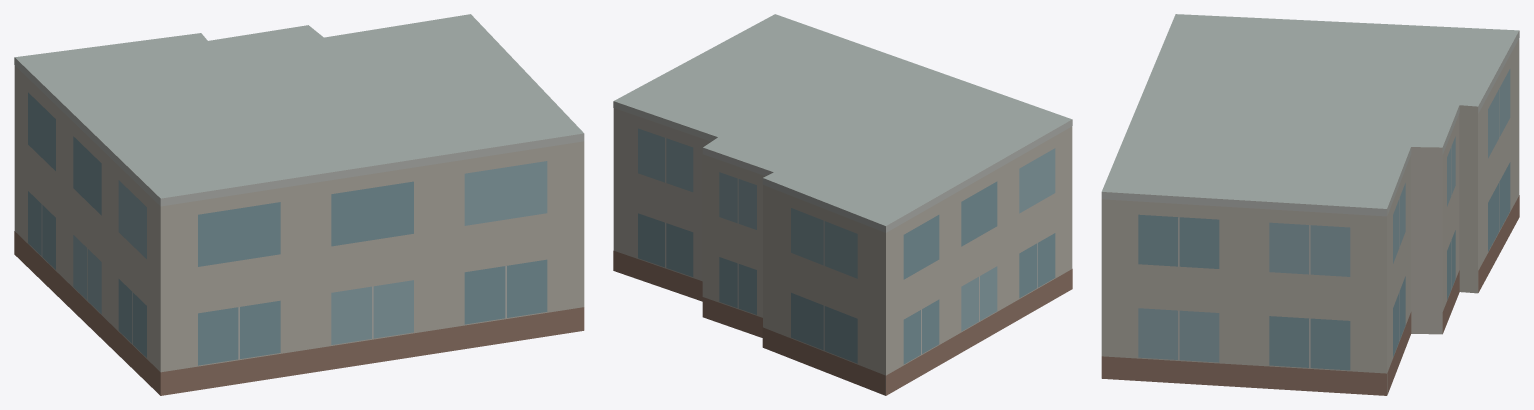
Rendered from survey-upis-32802115.glb.
The picture shows the model from 3 angles, left to right: view 1: azimuth 30°, elevation 25°; view 2: azimuth 150°, elevation 25°; view 3: azimuth 270°, elevation 25°; orthographic projection. The views are drawn at different scales.
Parts seen in each view (by area): view 1: survey-upis-32802115.tmp; view 2: survey-upis-32802115.tmp; view 3: survey-upis-32802115.tmp.
Boxes of the visible parts, x1=… form: survey-upis-32802115.tmp: x1=14, y1=14, x2=584, y2=395; survey-upis-32802115.tmp: x1=613, y1=14, x2=1072, y2=395; survey-upis-32802115.tmp: x1=1101, y1=14, x2=1519, y2=395.
Size of the model in its own units: 13.66 by 6.1 by 12.37.
